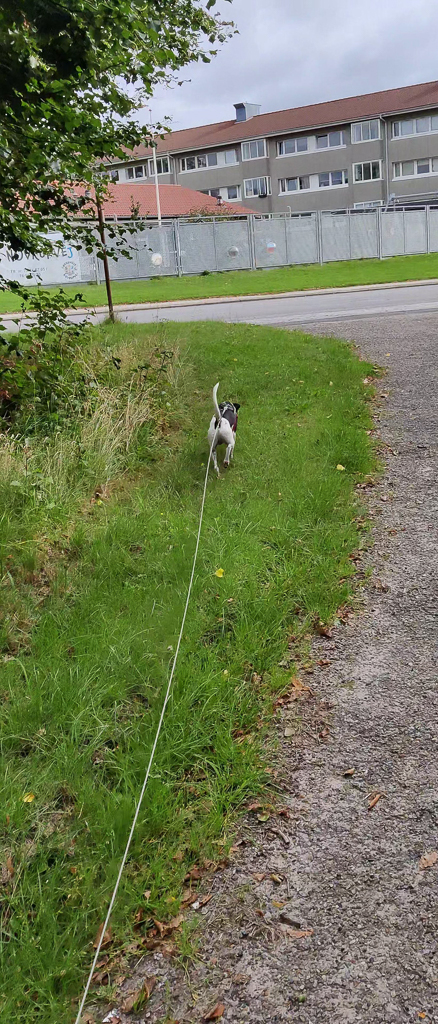Dog: (194, 375, 259, 485)
